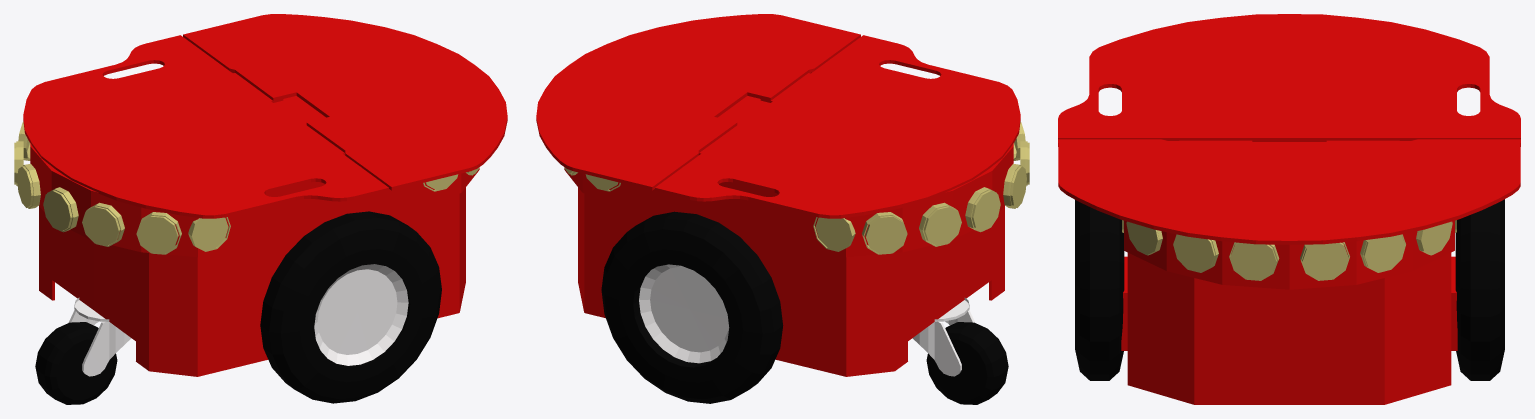
The model's file is pioneer.dae.
3 renders of one model, left to right at view 1: azimuth 30°, elevation 25°; view 2: azimuth 150°, elevation 25°; view 3: azimuth 270°, elevation 25°, orthographic. The views are drawn at different scales.
Parts seen in each view (by area): view 1: Top, Chassis, Left_Wheel, Left_Hubcap, Back_Sonar, Center_Wheel, Swivel, Front_Rim; view 2: Top, Chassis, Right_Wheel, Right_Hubcap, Back_Sonar, Center_Wheel, Swivel, Front_Rim; view 3: Top, Chassis, Right_Wheel, Left_Wheel, Front_Sonar, Back_Rim.
Boxes of the visible parts, bbox=[...] form: Top: bbox=[23, 14, 507, 218]; Chassis: bbox=[30, 72, 479, 376]; Left_Wheel: bbox=[260, 211, 441, 403]; Left_Hubcap: bbox=[314, 264, 408, 365]; Back_Sonar: bbox=[14, 122, 228, 254]; Center_Wheel: bbox=[35, 322, 117, 404]; Swivel: bbox=[68, 297, 131, 376]; Front_Rim: bbox=[16, 124, 230, 254]; Top: bbox=[536, 14, 1020, 218]; Chassis: bbox=[564, 72, 1013, 376]; Right_Wheel: bbox=[601, 211, 783, 403]; Right_Hubcap: bbox=[639, 264, 729, 363]; Back_Sonar: bbox=[815, 122, 1029, 254]; Center_Wheel: bbox=[926, 322, 1008, 404]; Swivel: bbox=[912, 297, 975, 376]; Front_Rim: bbox=[813, 124, 1027, 254]; Top: bbox=[1058, 14, 1520, 244]; Chassis: bbox=[1121, 142, 1457, 404]; Right_Wheel: bbox=[1455, 199, 1504, 380]; Left_Wheel: bbox=[1075, 200, 1124, 380]; Front_Sonar: bbox=[1122, 220, 1456, 280]; Back_Rim: bbox=[1122, 221, 1456, 280].
Bounding box in the file's own units: 0.4618 × 0.3812 × 0.241.
